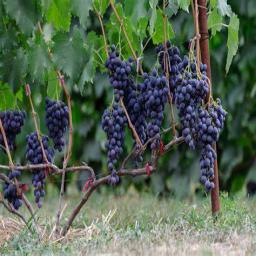kiwi: (166, 36, 222, 188), (102, 51, 165, 154), (22, 123, 68, 208), (41, 92, 73, 152), (0, 99, 30, 152), (0, 170, 26, 213)
